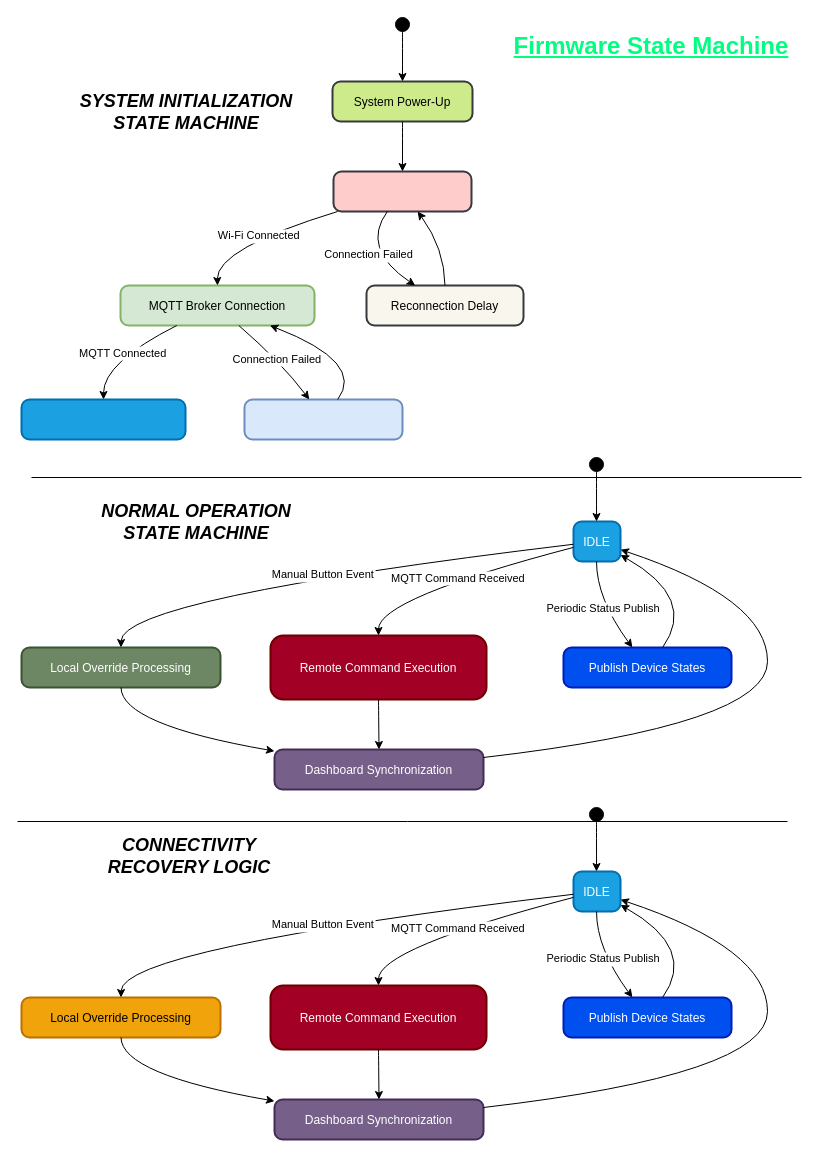
Some shapes in this 820 by 1158 pixel diagram are drawn without their labels. The shapes that lost their labels are listed below. From the top down, each one's centre as x and y in pixels, then its label:
(x=402, y=191): Wi-Fi Connection
(x=103, y=419): NORMAL_OPERATION
(x=323, y=419): MQTT Reconnection
